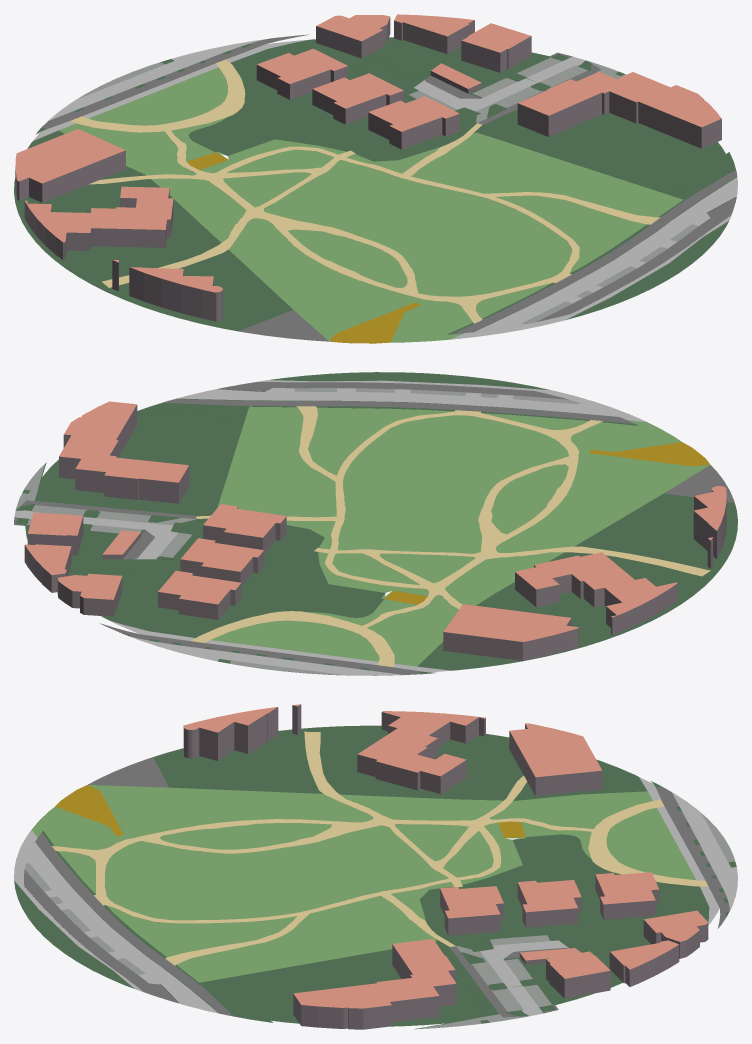
The picture shows the model from 3 angles, top to bottom: view 1: azimuth 30°, elevation 25°; view 2: azimuth 150°, elevation 25°; view 3: azimuth 270°, elevation 25°; orthographic projection.
Parts seen in each view (by area): view 1: 20241213_base_jph_round_habitat, 20241213_base_jph_round_build_dens_height, 20241213_base_jph_straße; view 2: 20241213_base_jph_round_habitat, 20241213_base_jph_round_build_dens_height, 20241213_base_jph_straße; view 3: 20241213_base_jph_round_habitat, 20241213_base_jph_round_build_dens_height, 20241213_base_jph_straße.
Part boxes in pixels (x1,y1,x2,y2): 20241213_base_jph_round_habitat: (14,37,734,343); 20241213_base_jph_round_build_dens_height: (15,14,721,321); 20241213_base_jph_straße: (35,34,737,334); 20241213_base_jph_round_habitat: (25,372,737,672); 20241213_base_jph_round_build_dens_height: (24,401,726,660); 20241213_base_jph_straße: (14,382,710,675); 20241213_base_jph_round_habitat: (14,725,719,1026); 20241213_base_jph_round_build_dens_height: (183,704,708,1029); 20241213_base_jph_straße: (24,731,737,1029).
Size of the model in its own units: 363 by 15.92 by 366.
